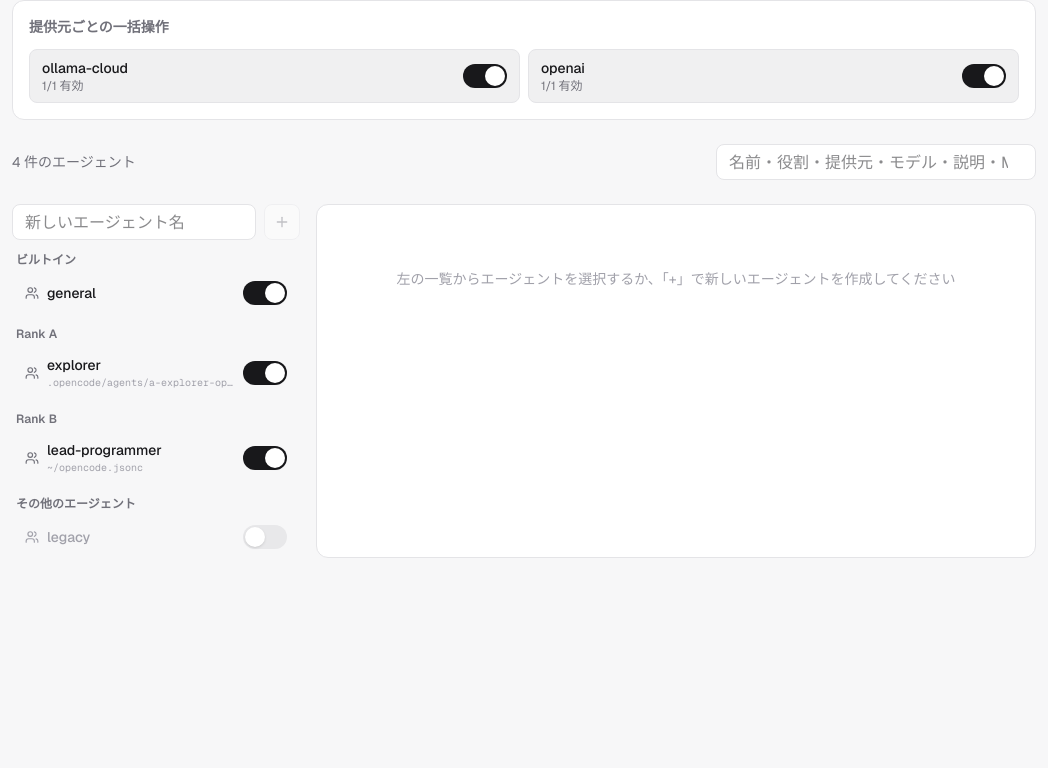
AgentsSettings › shows the selected agent's enabled state
Expected: the heading "Rank A" is shown, [16,326,57,342]
Step 1. Click the button "legacy" → (130, 537), box [25,527,235,547]
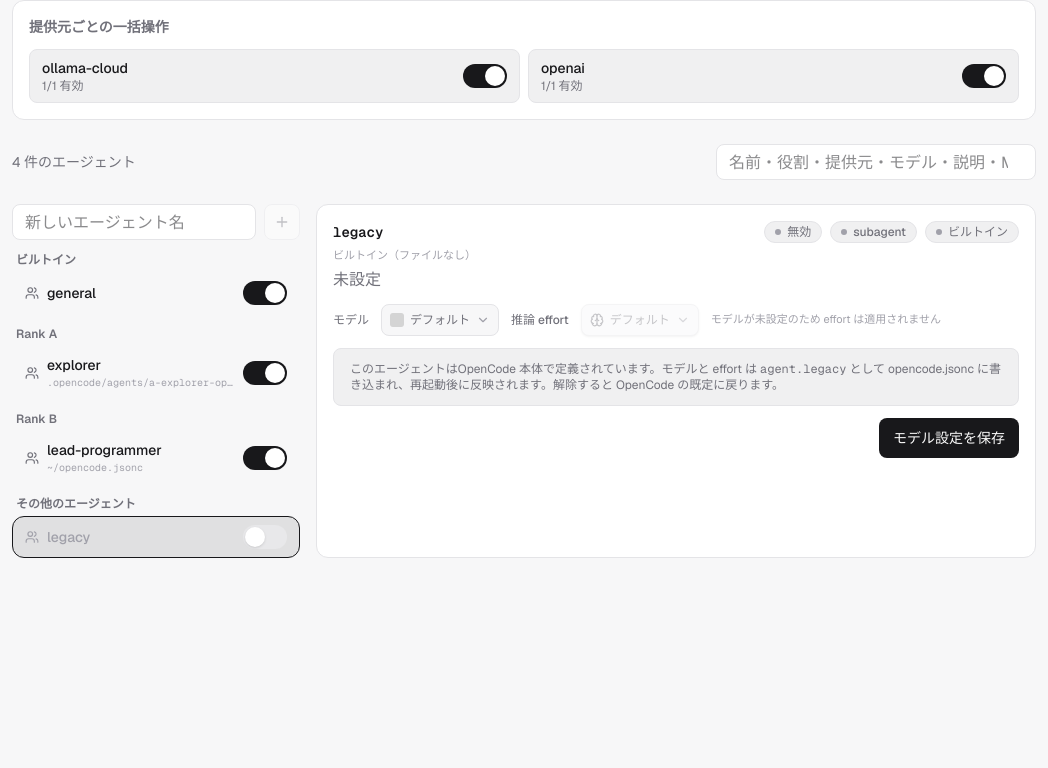
Expected: the text "無効" is shown, [764,221,822,243]
Step 2. Click the button "explorer .opencode/agents/a-explorer-openai-gpt-5.md" → (130, 372), box [25,355,235,390]
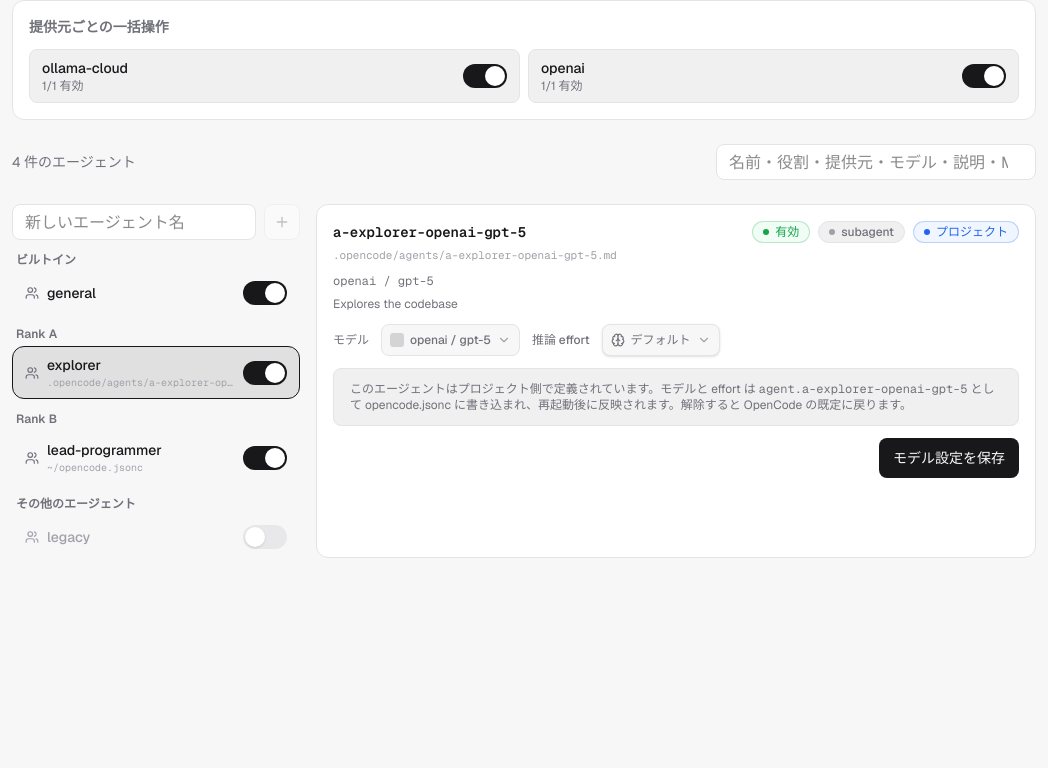
Expected: the text "有効" is shown, [752,221,810,243]
